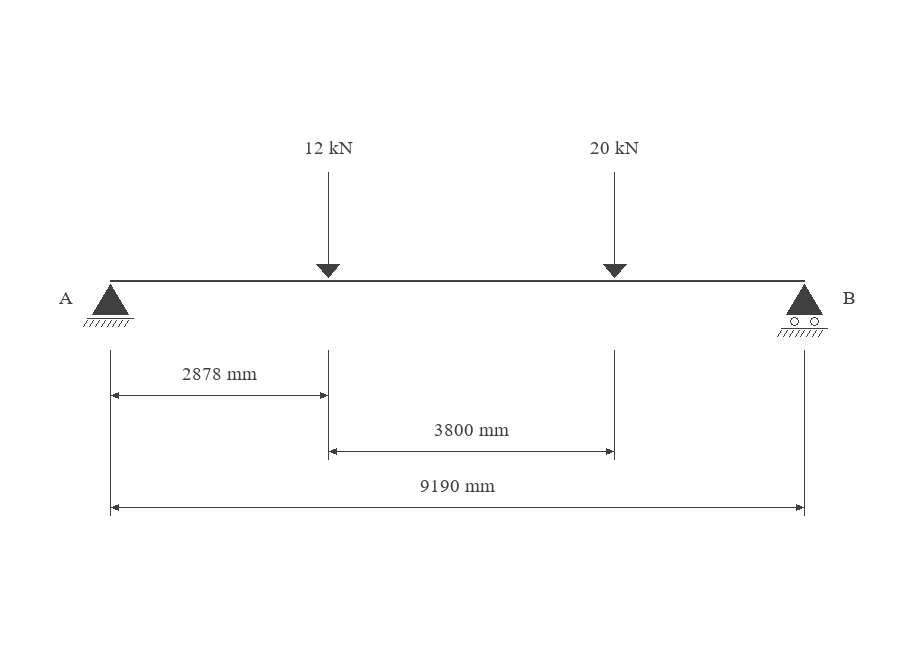pin_support: (83, 284, 134, 327)
point_load: (316, 172, 340, 278), (603, 172, 627, 278)
roller_support: (777, 284, 828, 337)
